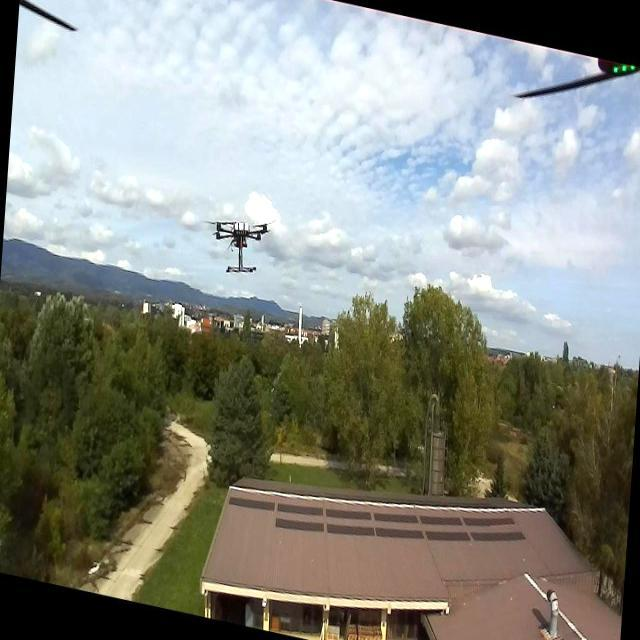drone: (210, 203, 268, 281)
